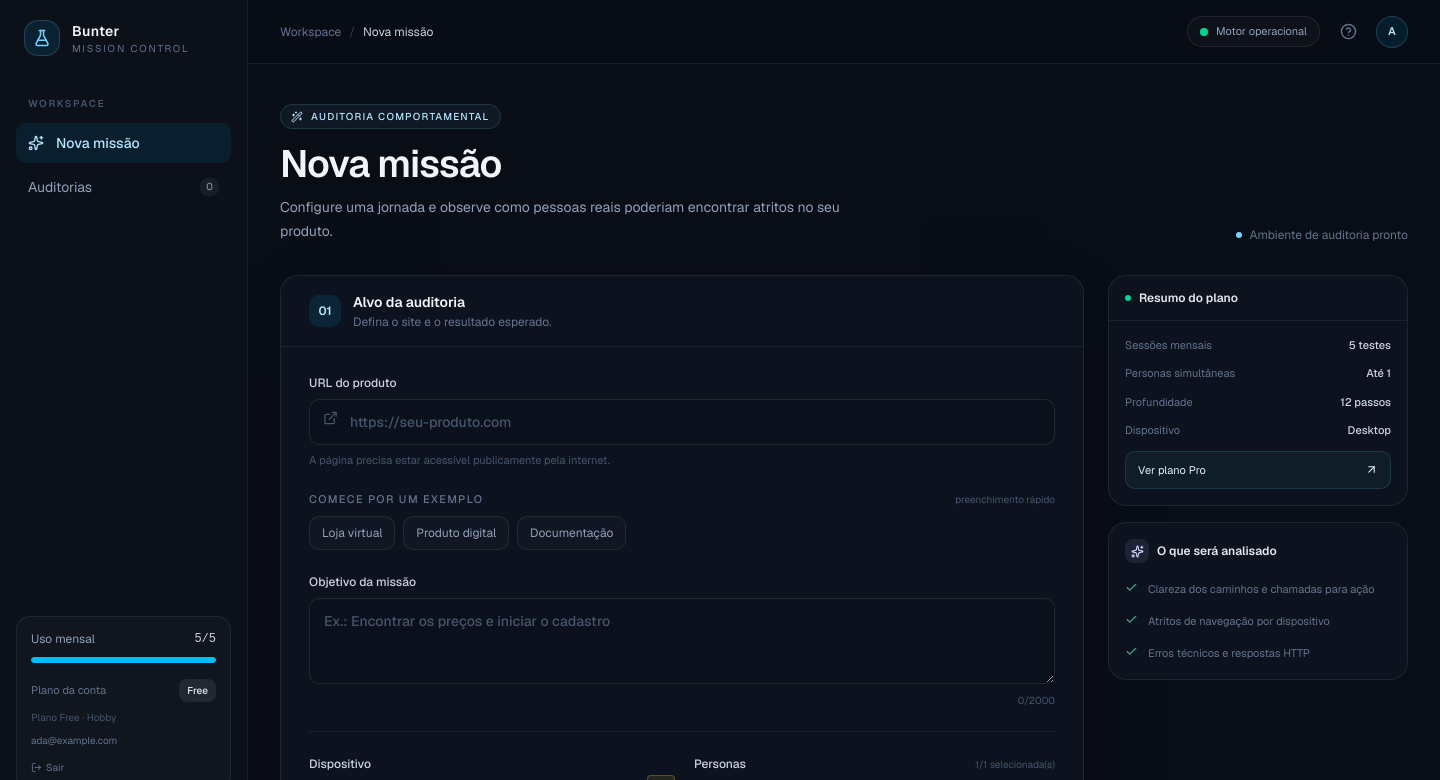
MissionControl › supports examples, persona selection, upgrade dialogs and quota messaging on Free
Later steps or results of the test are not shown.
Click the button "Loja virtual".
click(352, 533)  # box [309,516,395,550]
(page scrolled)
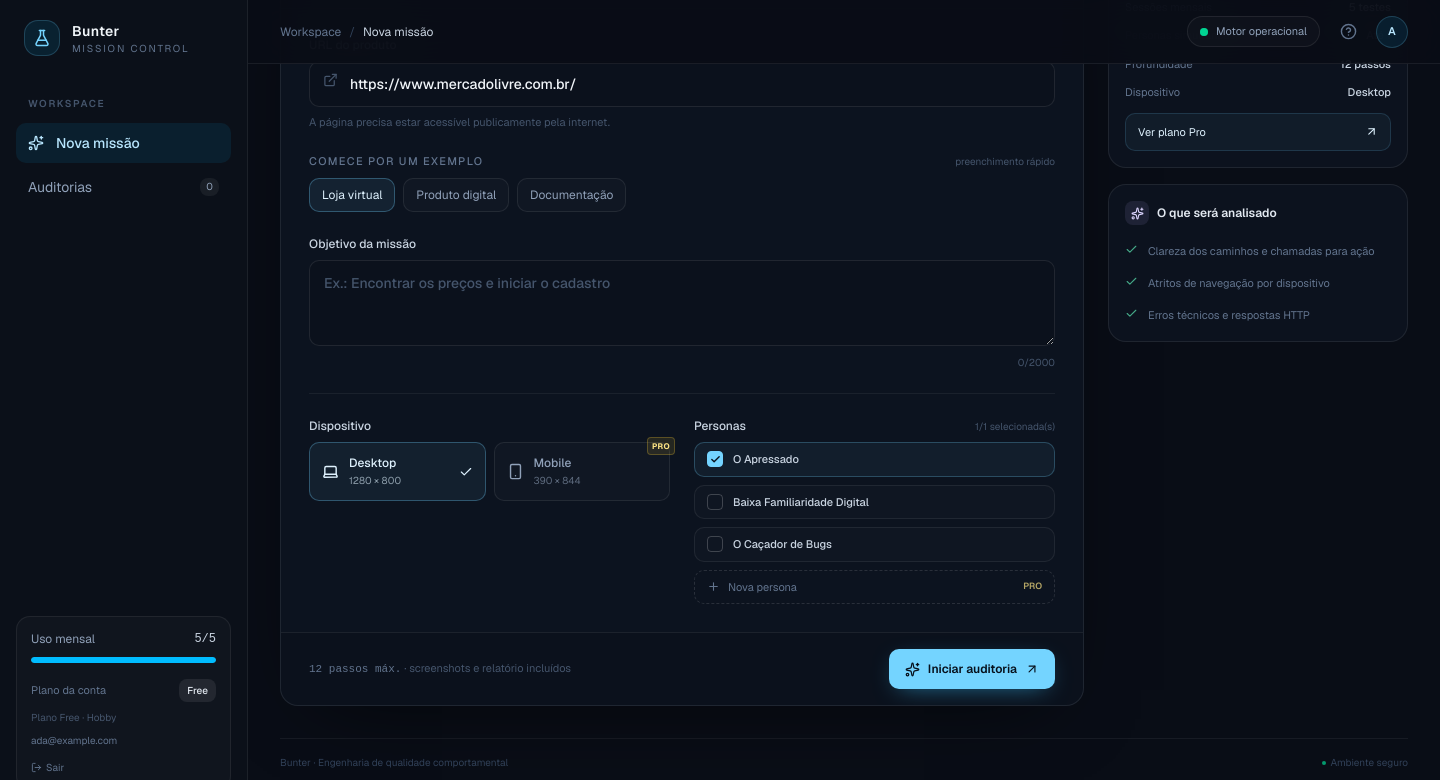
Now the field named "targetUrl" holds "https://www.mercadolivre.com.br/", box [309,61,1055,107]
Click the button "Mobile 390 × 844 PRO".
click(582, 472)  # box [494,442,670,501]
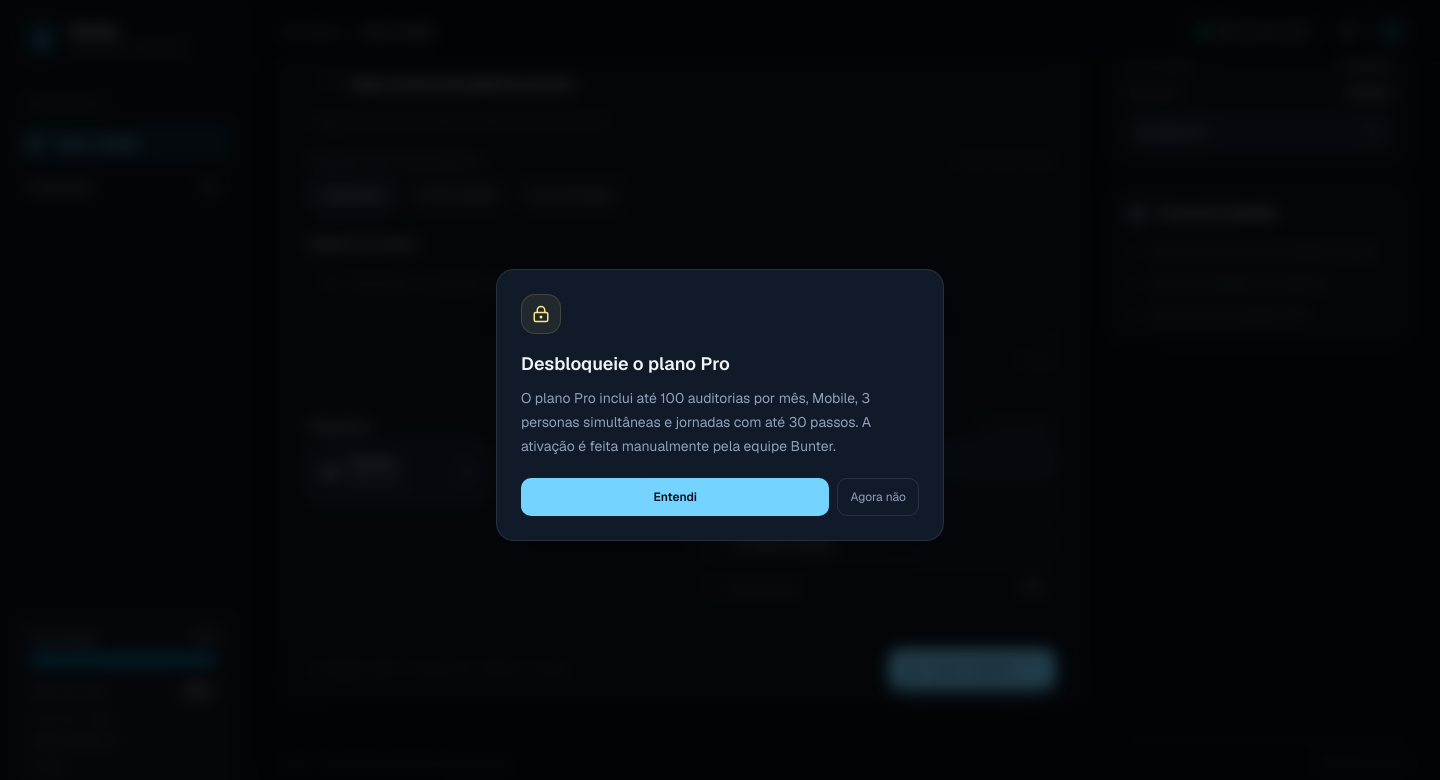
Now the dialog shows "Desbloqueie o plano Pro", box [521,352,730,375]
Click the button "Agora não".
click(878, 497)  # box [838,478,919,516]
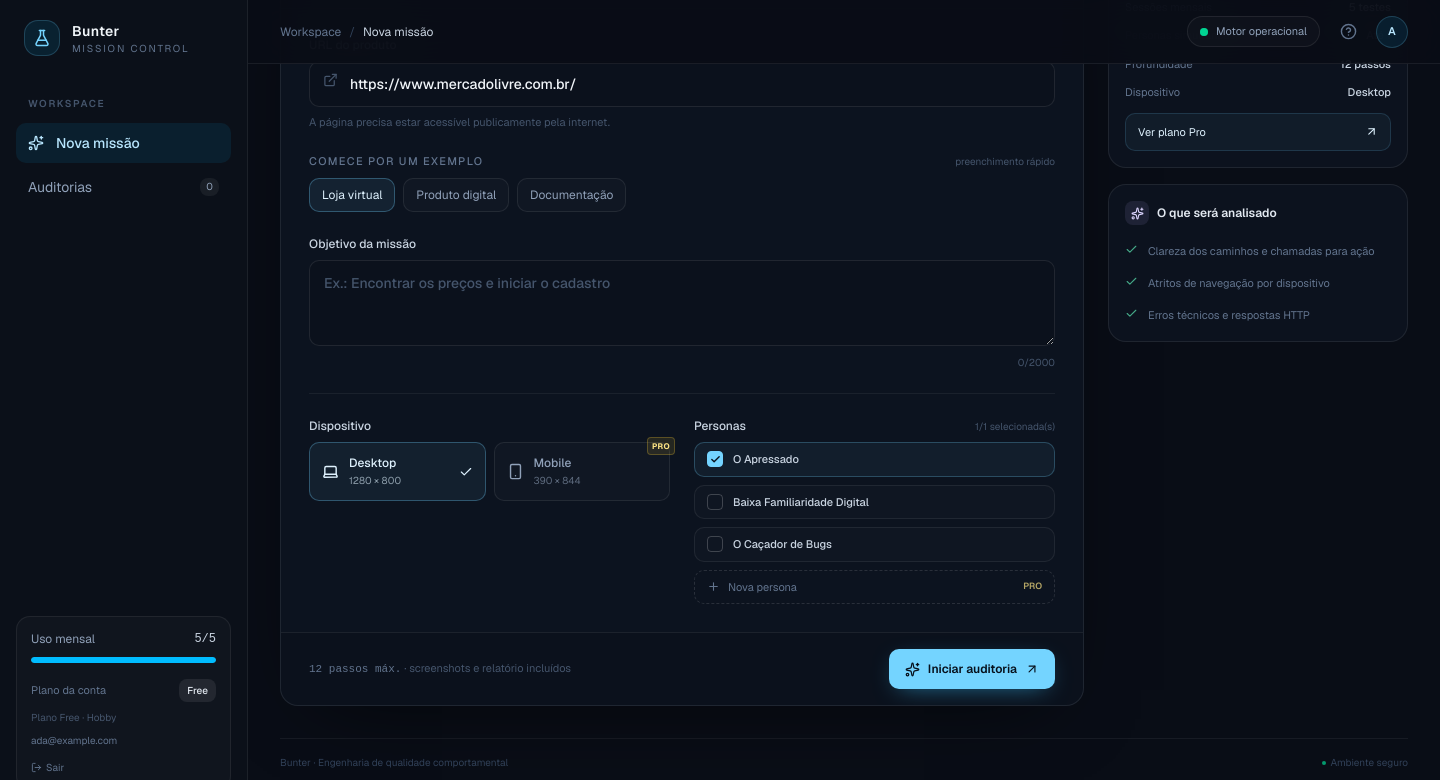
Click the button "Nova persona PRO".
click(762, 587)  # box [694,570,1055,604]
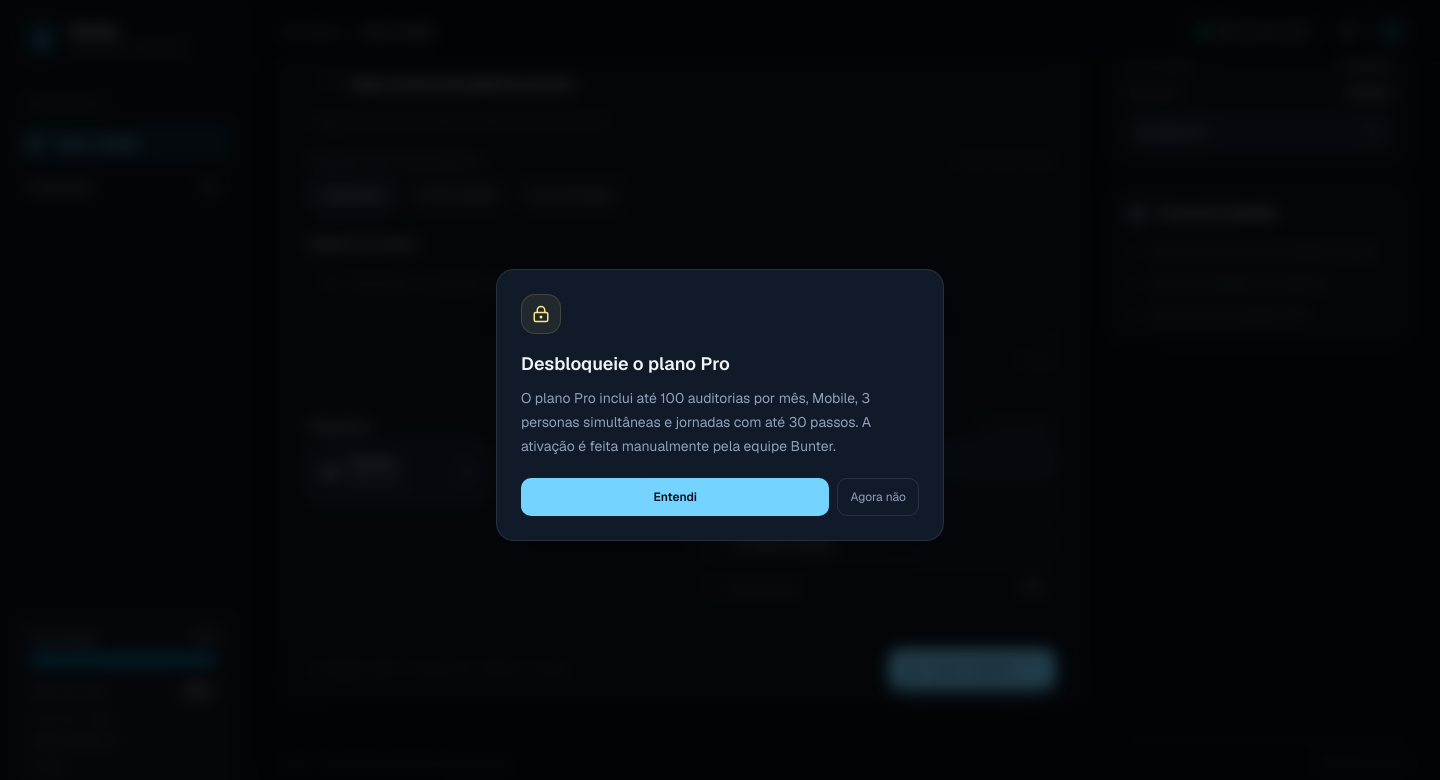
Now the dialog is shown, box [496,269,944,541]
